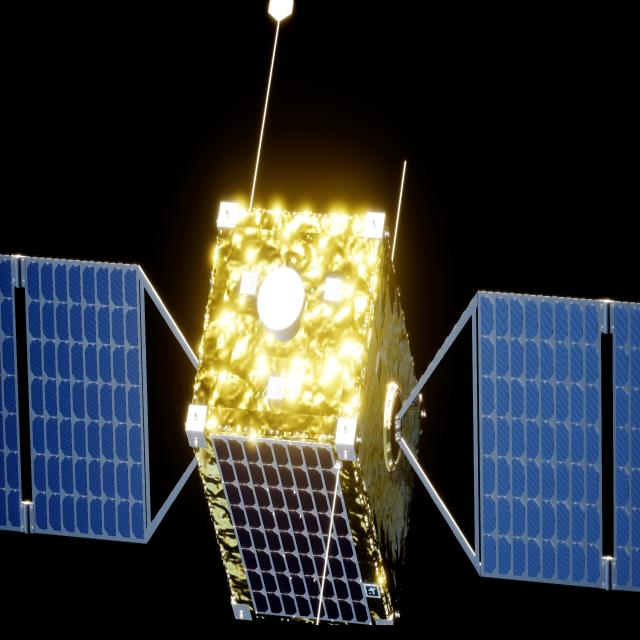medium_debris: (0, 202, 640, 628)
